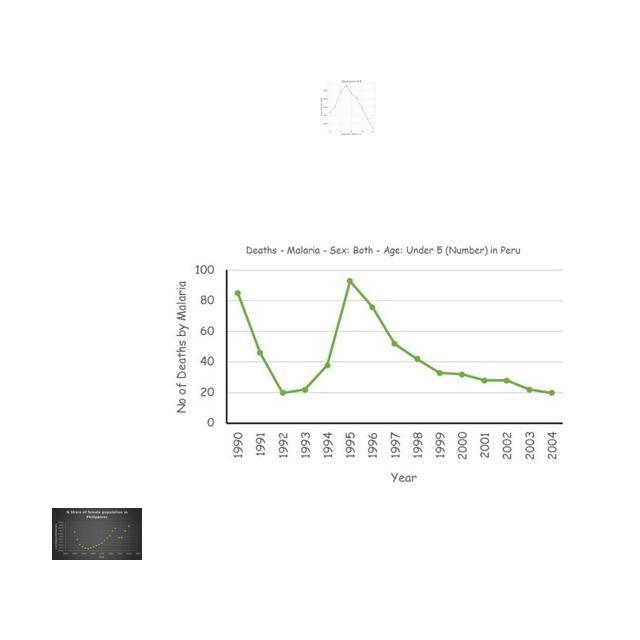Graph: (171, 237, 568, 491), (310, 76, 391, 137), (52, 508, 142, 560)
